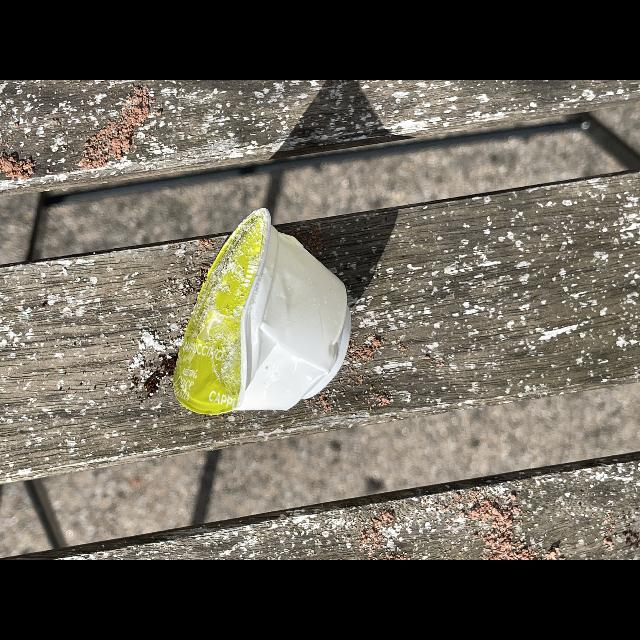damaged_capsule: (164, 202, 366, 448)
